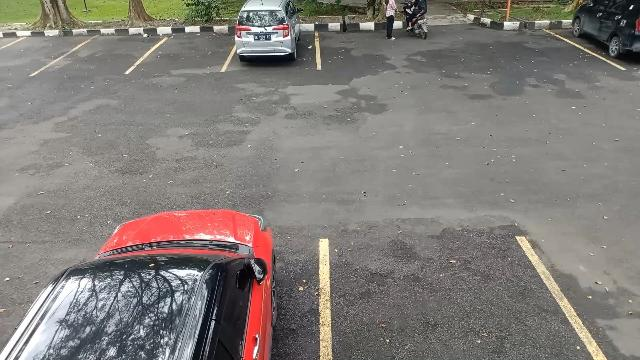empty: (317, 236, 577, 360), (144, 22, 230, 74), (66, 25, 146, 75), (0, 26, 64, 76)
occupied: (230, 14, 320, 70)
